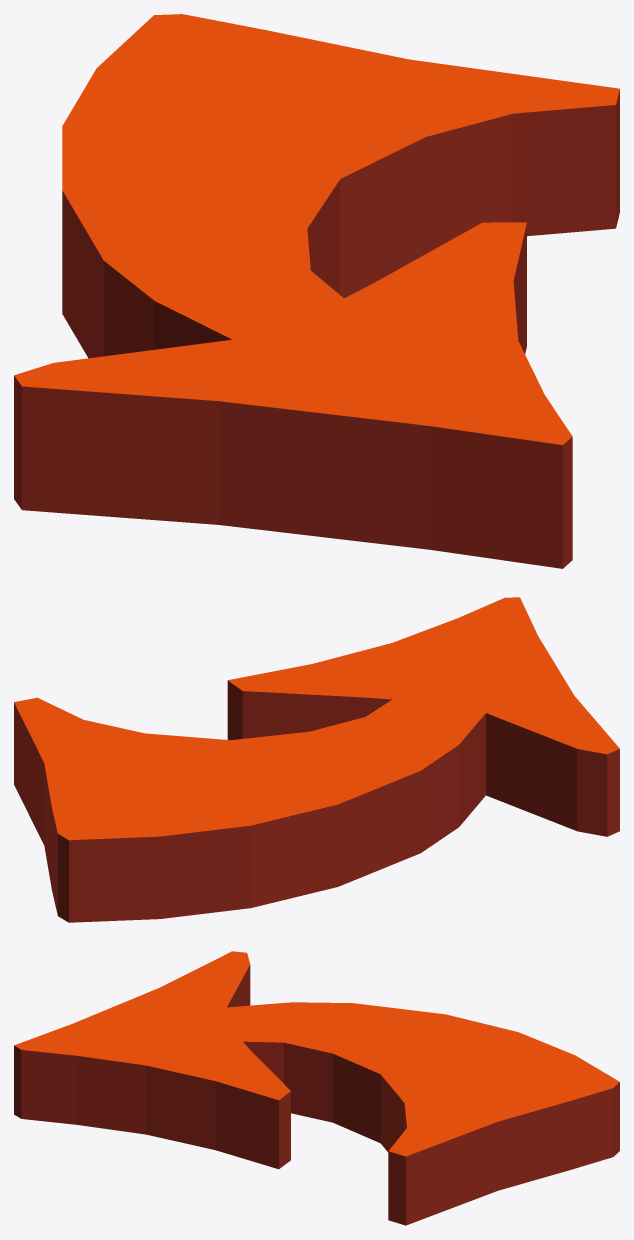
The model's file is strzałka.fbx.
The picture shows the model from 3 angles, top to bottom: view 1: azimuth 30°, elevation 25°; view 2: azimuth 150°, elevation 25°; view 3: azimuth 270°, elevation 25°; orthographic projection. The views are drawn at different scales.
Visible parts, largest first — view 1: Cube; view 2: Cube; view 3: Cube.
Part boxes in pixels (x1=…): Cube: x1=14, y1=14, x2=619, y2=568; Cube: x1=14, y1=597, x2=619, y2=922; Cube: x1=14, y1=951, x2=619, y2=1225.
Size of the model in its own units: 2.84 by 0.4463 by 3.55.
